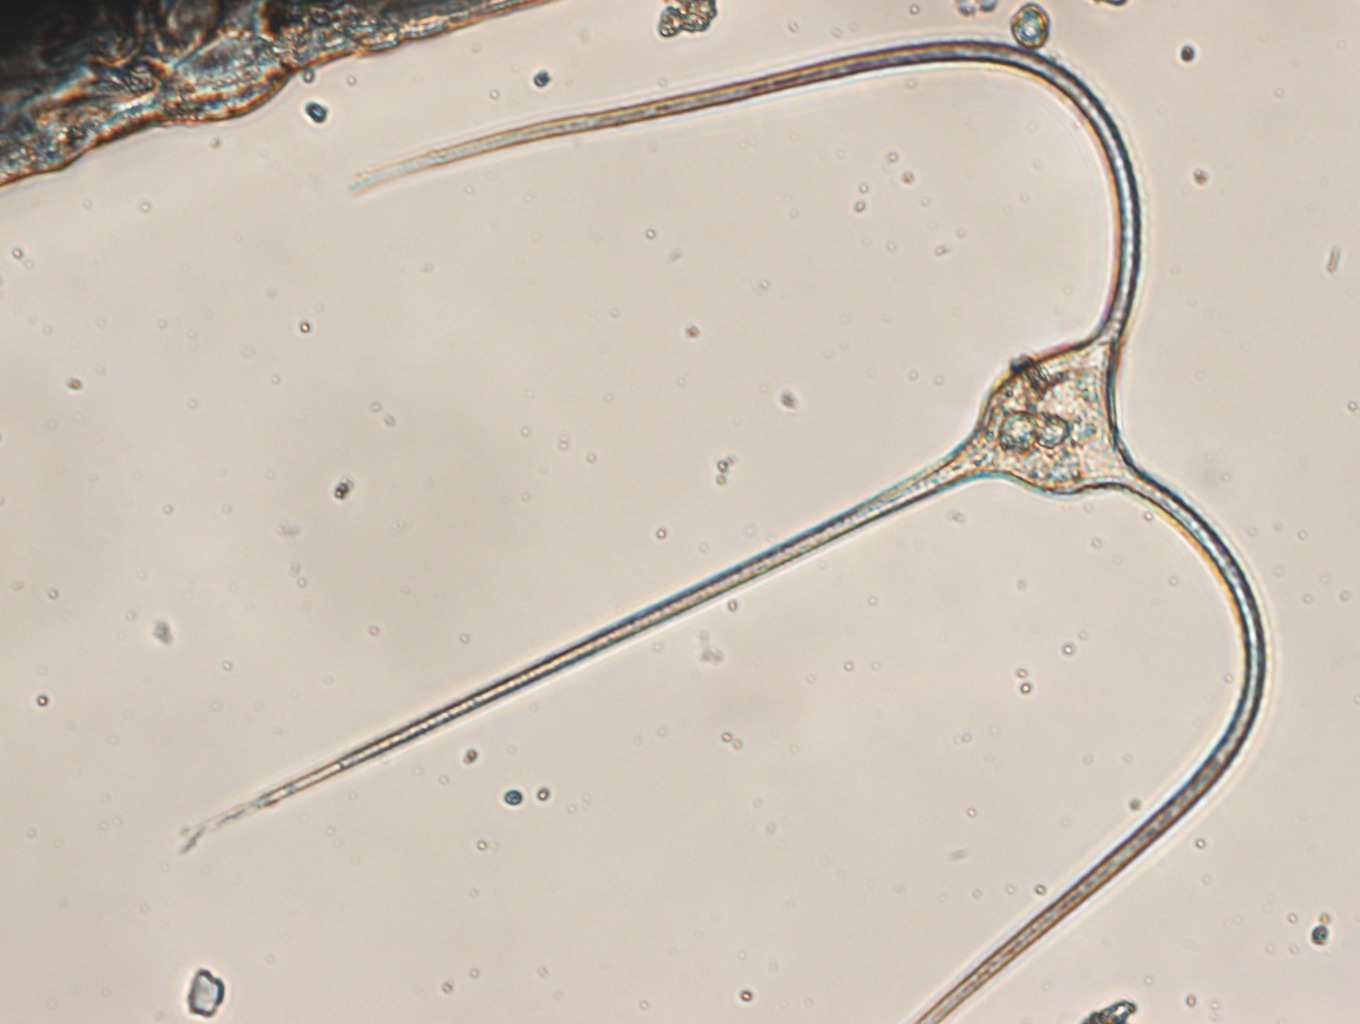ceratium trichoceros: (260, 34, 1270, 1024)
